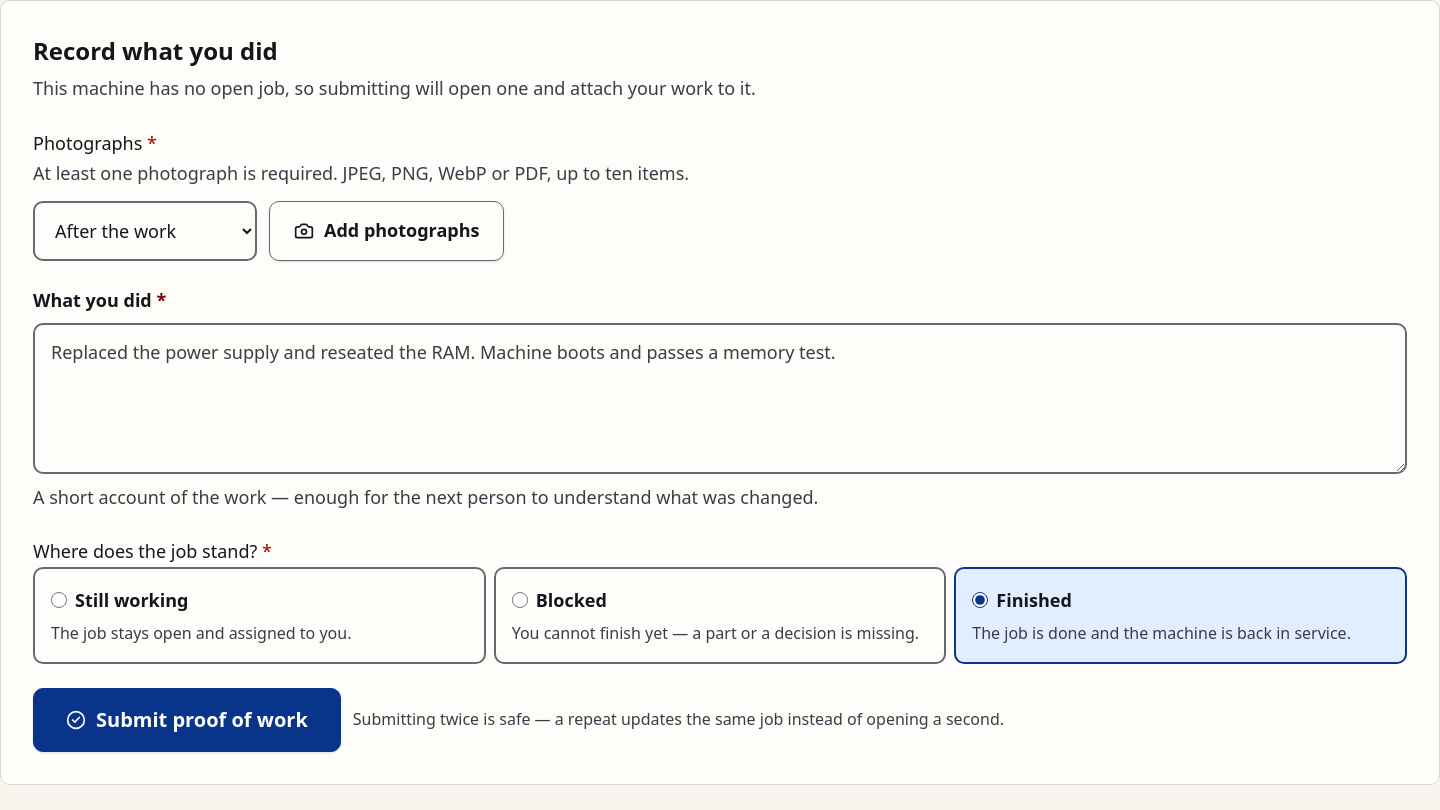
Scenario: choosing a job › renders the chooser the server sends back when it refuses to guess
The width and height of the screenshot is (1440, 810).
In the text box labelled "What you did *": (720, 399) [33,323,1407,474], type "Swapped the PSU."
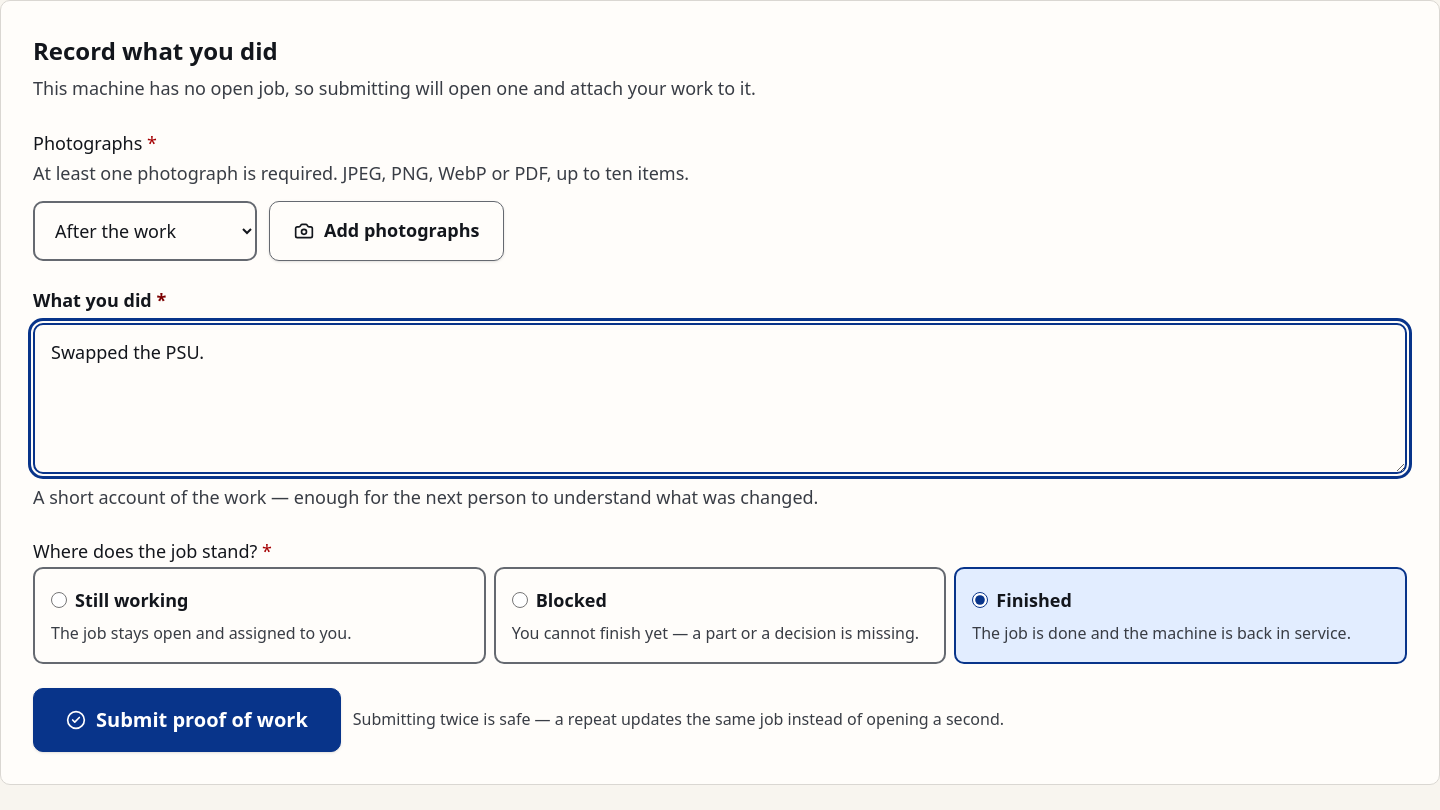
Click the button "Submit proof of work": (187, 720) [33,688,341,752]
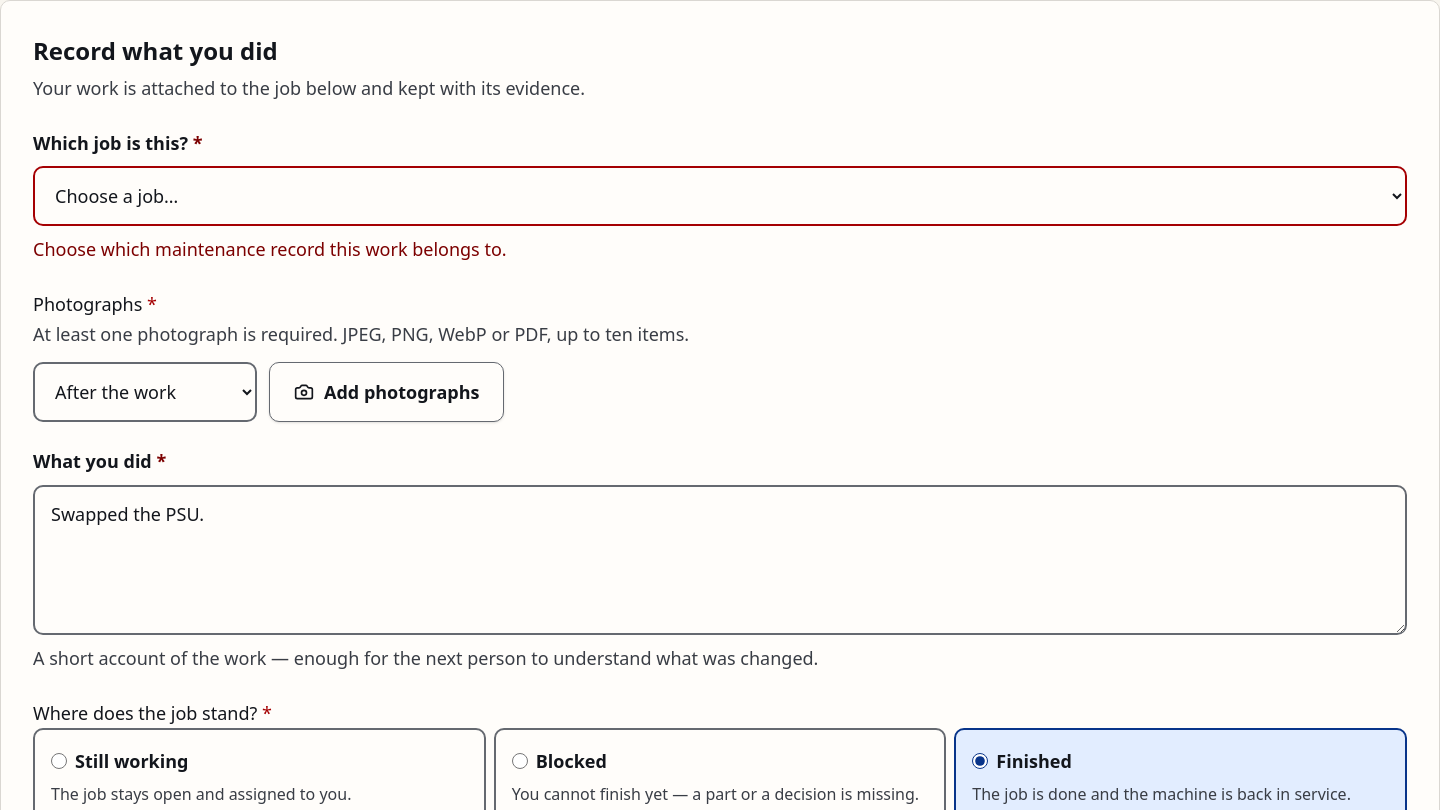
Result: the dropdown labelled "Which job is this? *" is shown at [33,166,1407,226]
